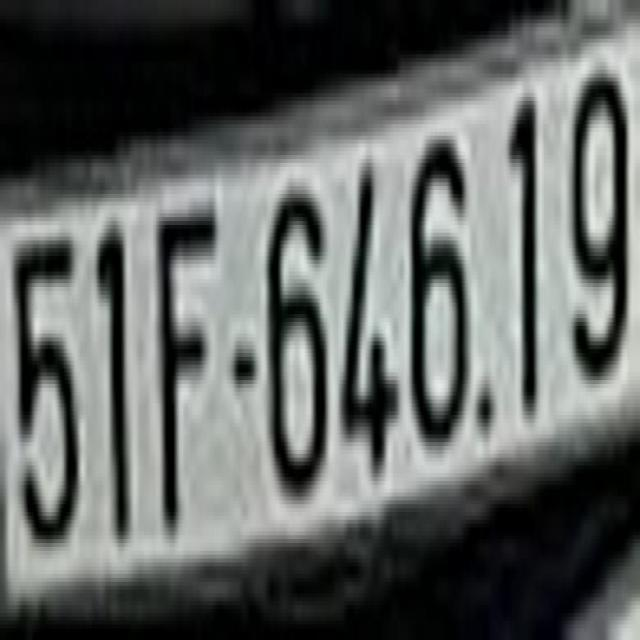1: (95, 198, 131, 554), (507, 85, 543, 423)
4: (336, 163, 399, 473)
5: (16, 218, 86, 562)
6: (259, 159, 330, 516), (407, 140, 469, 446)
9: (569, 66, 628, 380)
F: (153, 194, 216, 543)
